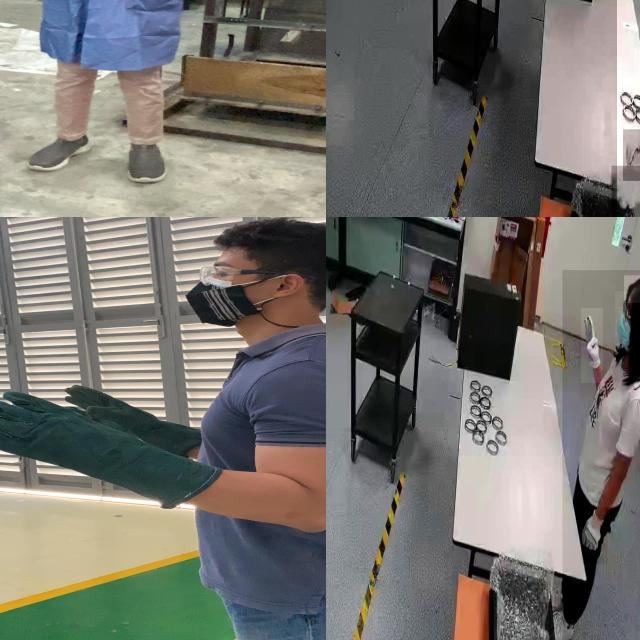face_mask: (181, 262, 275, 328), (615, 291, 637, 353)
glasses: (193, 262, 321, 290)
hand_glove: (0, 390, 115, 478), (55, 380, 168, 437), (581, 308, 603, 383), (581, 507, 608, 565), (611, 165, 640, 217), (623, 129, 640, 180)
head_nohelmet: (203, 217, 326, 256), (623, 275, 640, 303)
person: (100, 217, 326, 640), (0, 0, 247, 195), (562, 270, 640, 640)
shoes: (18, 128, 97, 178), (113, 134, 173, 186)
